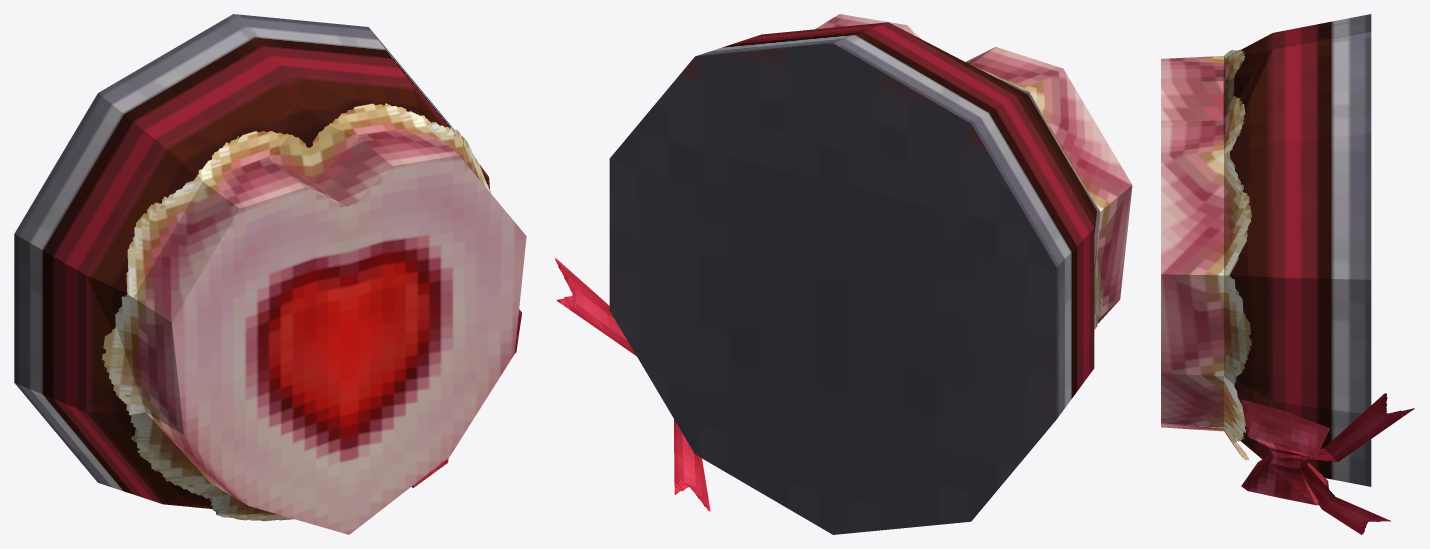
File: hunli_dangao1_a.obj
3 renders of one model, left to right at view 1: azimuth 30°, elevation 25°; view 2: azimuth 150°, elevation 25°; view 3: azimuth 270°, elevation 25°, orthographic. The views are drawn at different scales.
Visible parts, largest first — view 1: hunli_dangao1_a; view 2: hunli_dangao1_a; view 3: hunli_dangao1_a.
Part boxes in pixels (x1=…): hunli_dangao1_a: x1=14, y1=14, x2=526, y2=534; hunli_dangao1_a: x1=555, y1=14, x2=1132, y2=534; hunli_dangao1_a: x1=1161, y1=14, x2=1414, y2=534.
Bounding box in the file's own units: 28.31 × 27.62 × 14.26.
Materials: 2 (2 with a texture image).
